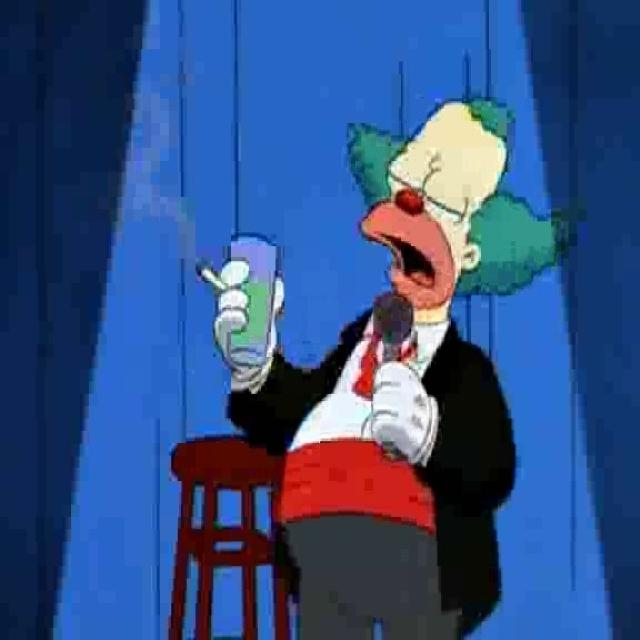Krusty the Clown: (344, 96, 576, 329)
